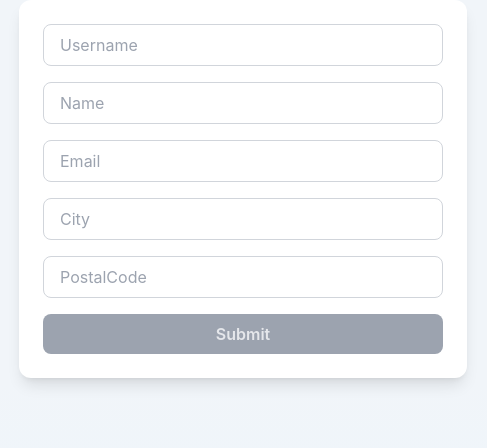
Test: RegistrationForm - Tests Complets › API Integration (200/400/500) › POST 500 - Serveur indisponible
The image size is (487, 448).
In the field with placeholder "Name": (243, 103) [43,82,443,124], type "Jean Dupont"
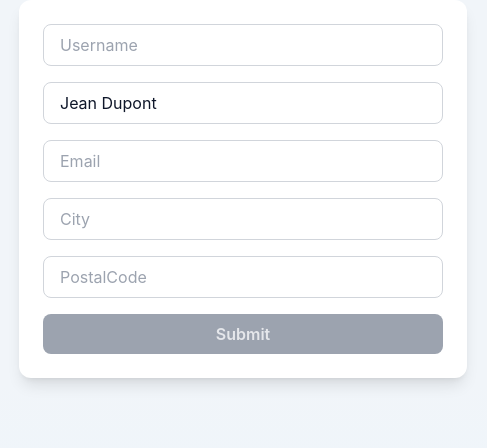
In the field with placeholder "Username": (243, 45) [43,24,443,66], type "jdupont3"
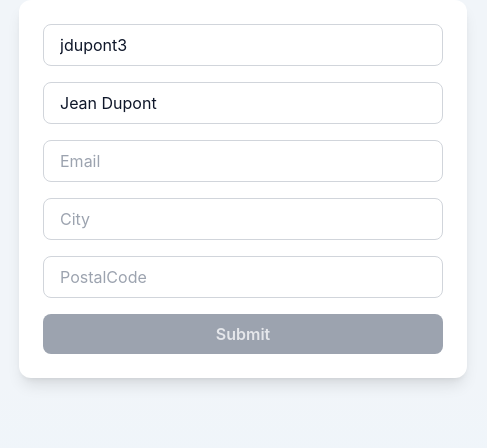
In the field with placeholder "Email": (243, 161) [43,140,443,182], type "crash@test.com"
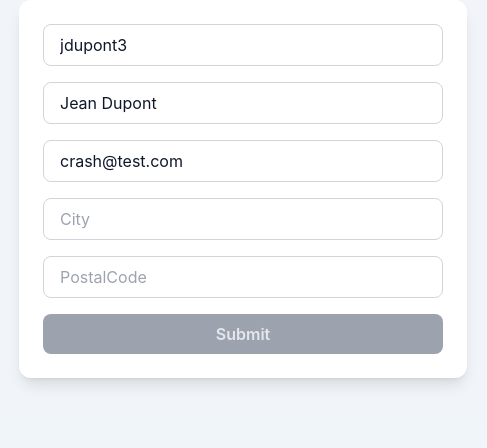
In the field with placeholder "City": (243, 219) [43,198,443,240], type "Paris"
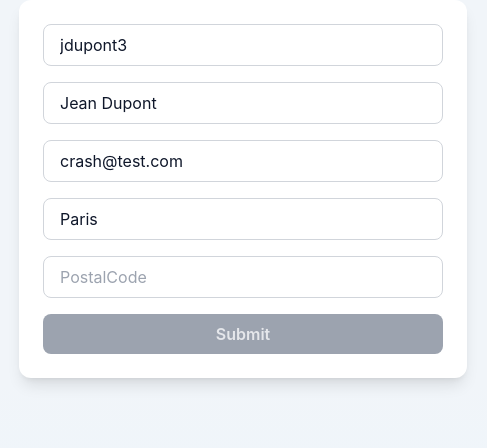
In the field with placeholder "PostalCode": (243, 277) [43,256,443,298], type "75001"
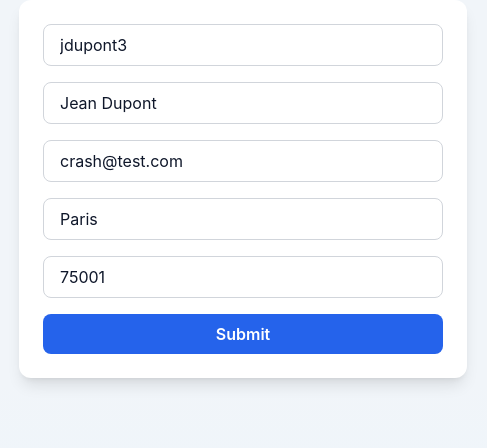
Expected: the button "Submit" is enabled
Click the button "Submit": (243, 334) [43,314,443,354]
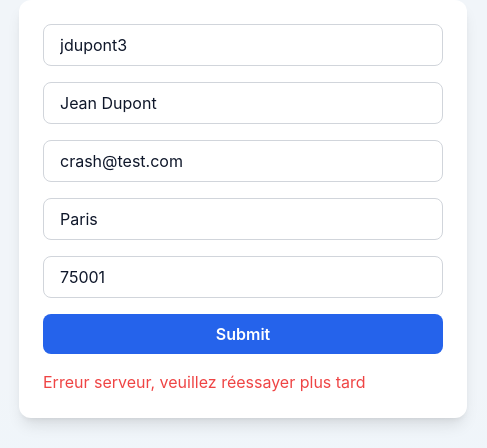
Expected: the message reads "Erreur serveur, veuillez réessayer plus tard", [43,372,366,392]
